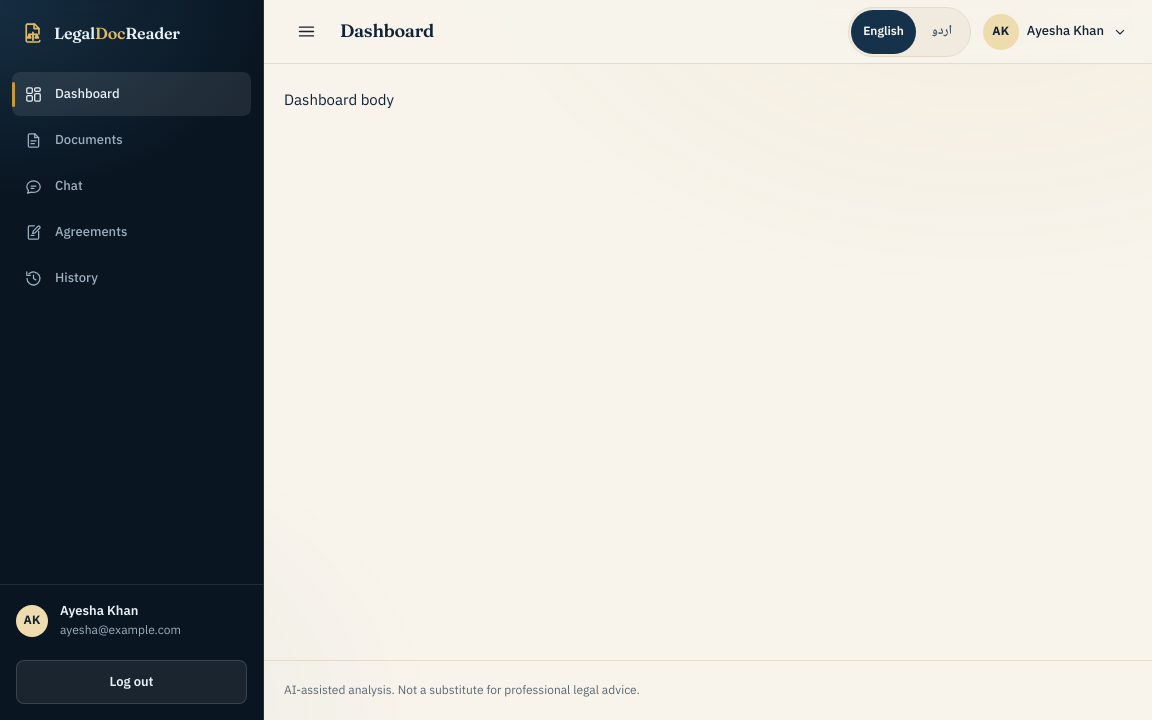
Test: AppShell user menu › closes when the pointer goes somewhere else
expect the text "Dashboard body" is shown: met, box [284, 90, 394, 109]
Click the button with aria-label "Account menu" at (1055, 32), box [979, 10, 1132, 54]
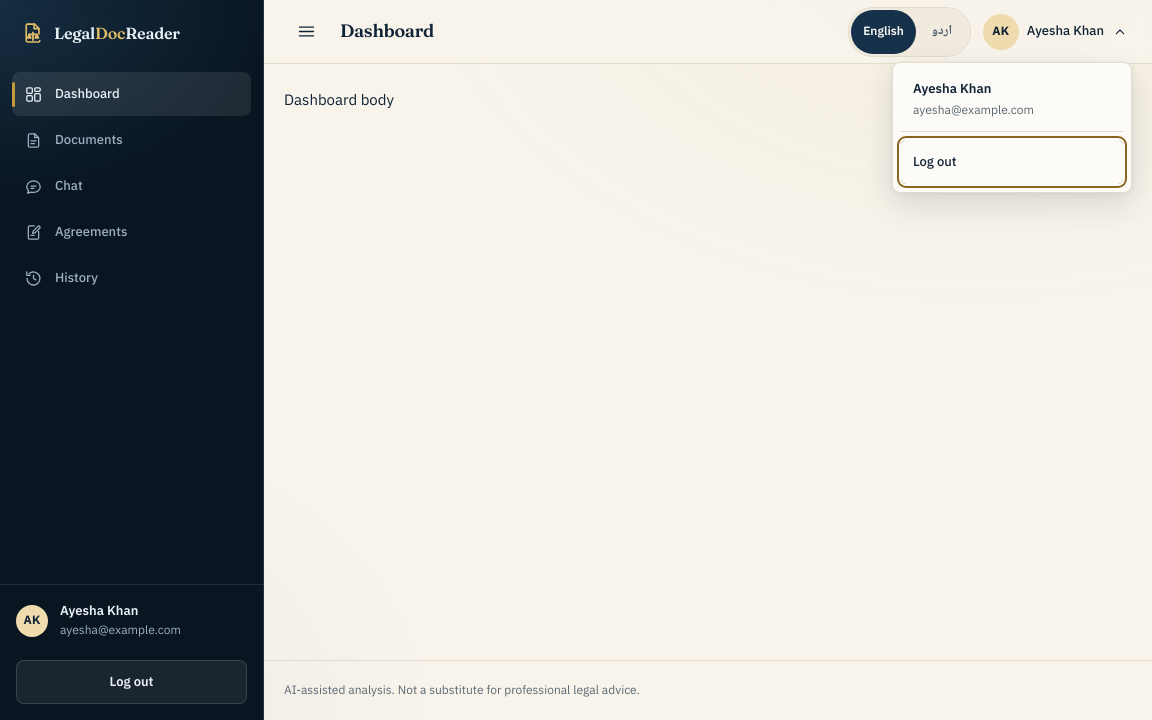
expect the menu is shown: met, box [892, 62, 1132, 193]
Click the element showing "Dashboard body" at (339, 100), box [284, 90, 394, 109]
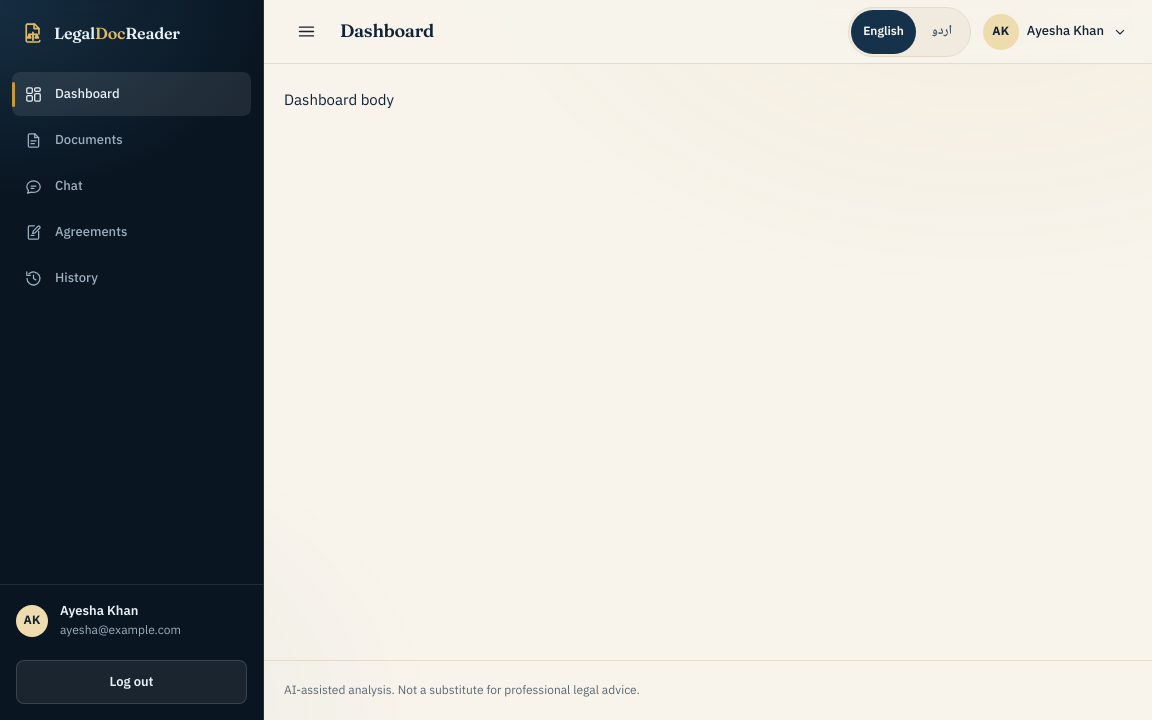
expect the menu is gone: met
